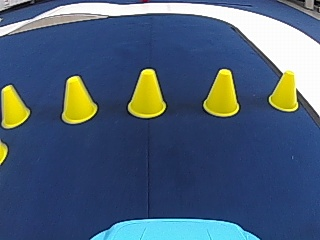cone: (127, 69, 166, 118), (60, 74, 98, 123), (203, 68, 240, 116), (268, 68, 299, 111), (1, 84, 30, 128)
